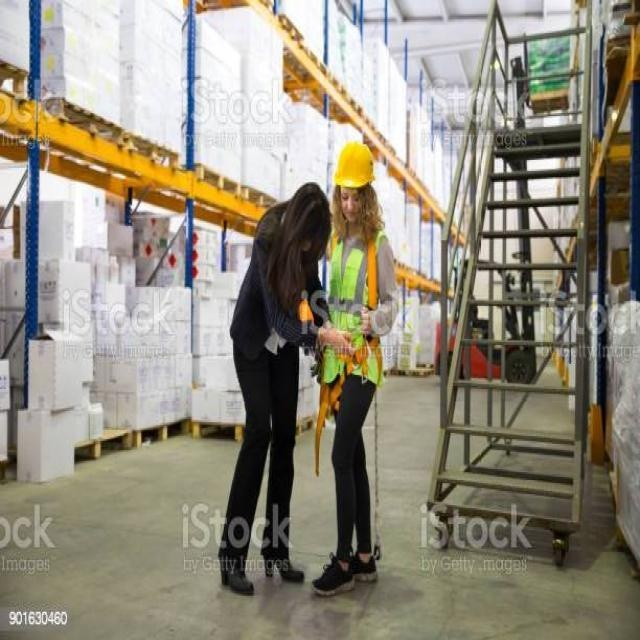Arnes_seguridad: (308, 225, 393, 435)
